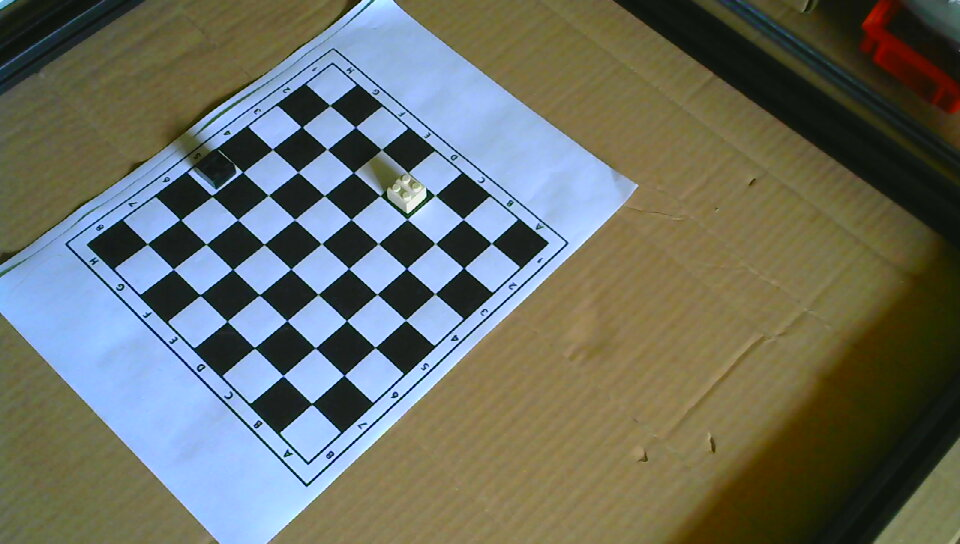bp: (192, 148, 237, 189)
wp: (383, 171, 428, 215)
